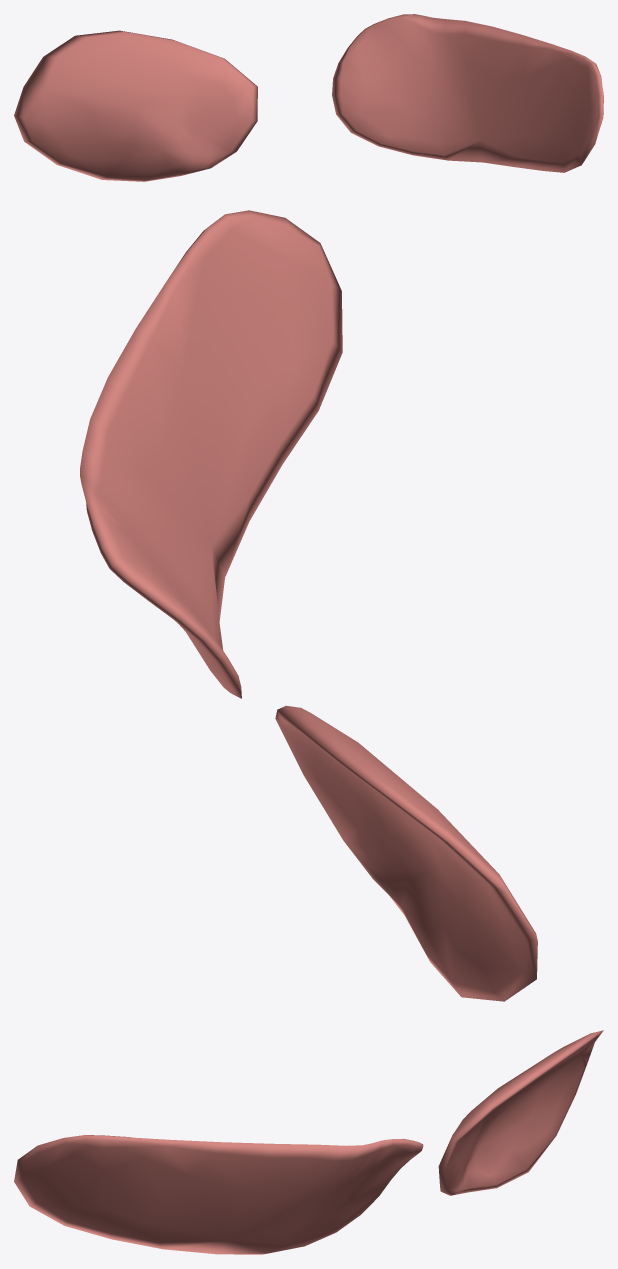
3 views of the same model, one above another, from view 1: azimuth 30°, elevation 25°; view 2: azimuth 150°, elevation 25°; view 3: azimuth 270°, elevation 25° (orthographic). The views are drawn at different scales.
Parts seen in each view (by area): view 1: ZA_e4238ee466e54d6f; view 2: ZA_e4238ee466e54d6f; view 3: ZA_e4238ee466e54d6f.
Boxes of the visible parts, <box> form: ZA_e4238ee466e54d6f: <box>14,14,603,181</box>; ZA_e4238ee466e54d6f: <box>80,210,537,1001</box>; ZA_e4238ee466e54d6f: <box>14,1030,603,1254</box>.
Bounding box in the file's own units: 0.0227 × 0.0106 × 0.0264.
